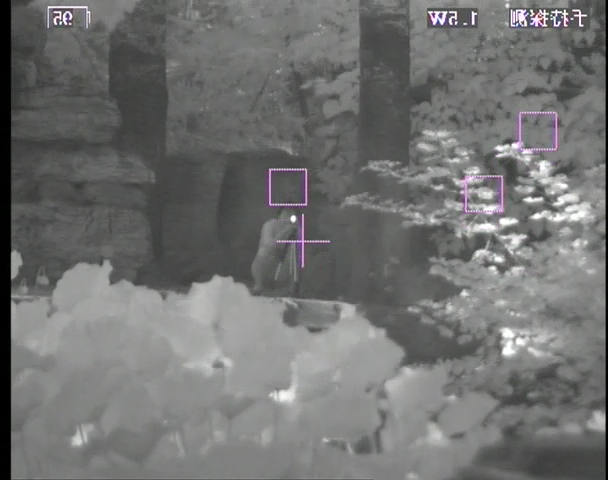my: (289, 213, 299, 225)
